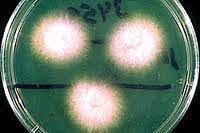Fusarium: (70, 79, 119, 130), (110, 22, 160, 66), (32, 16, 85, 56)
